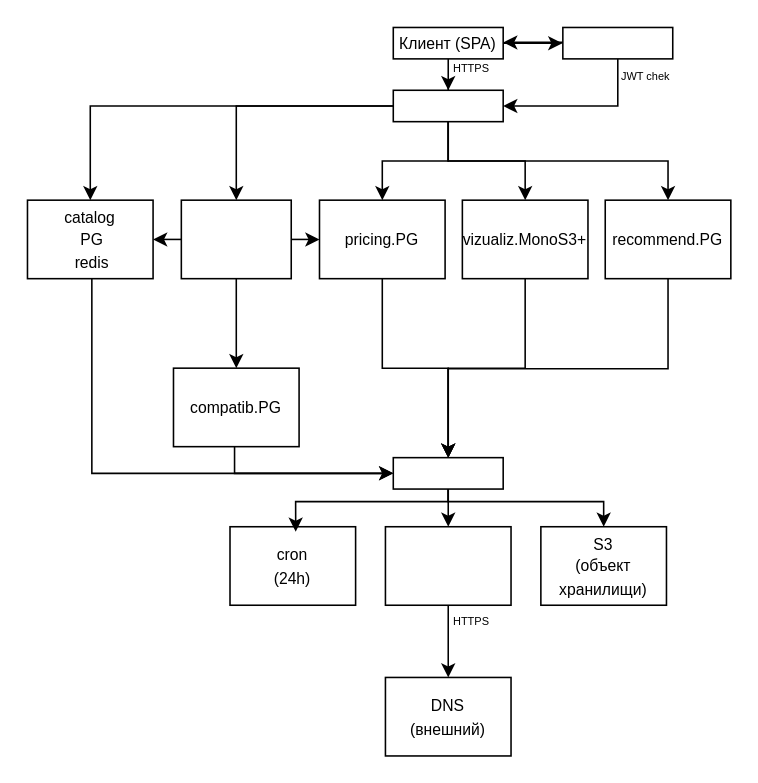
The diagram is 758 pixels wide and 783 high, and some of its shapes have lost their labels. Each missing label, with the centre of its shape:
API Gateway: [447,105]
build PG redis: [235,239]
ingestion-service PG+S3: [447,565]
kafka: [447,472]
Keycloak: [617,42]
